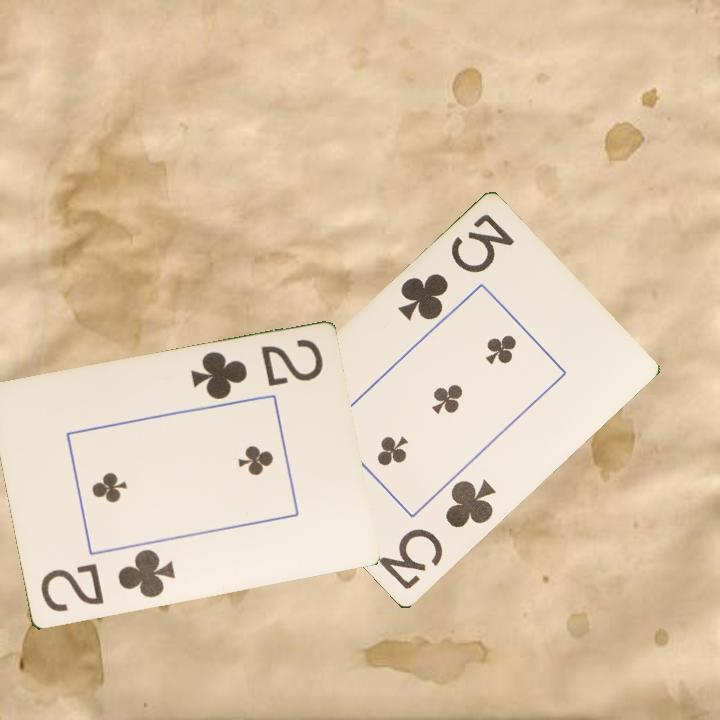2c: (37, 546, 178, 616), (187, 336, 326, 404)
3c: (374, 476, 499, 594), (394, 210, 518, 325)
